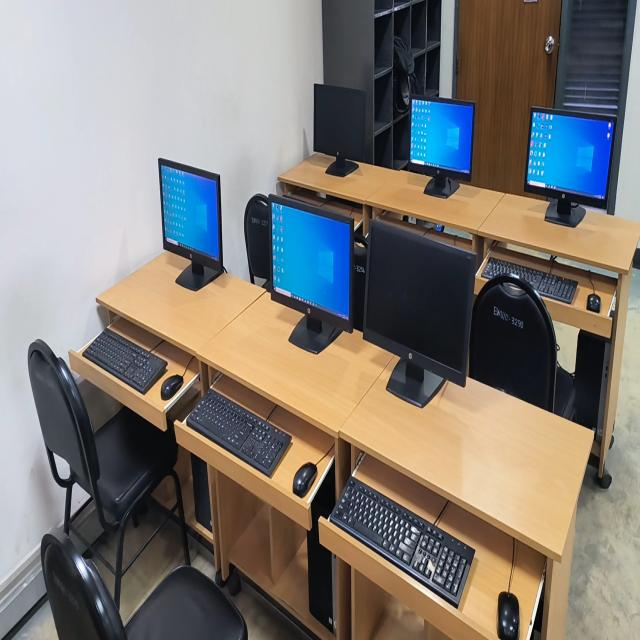Chair: (28, 340, 190, 606), (41, 534, 247, 639), (469, 273, 557, 411), (245, 194, 270, 287), (353, 241, 367, 331)
Cpu: (307, 460, 335, 632), (573, 331, 610, 440), (191, 455, 212, 532)
Keyboard: (329, 478, 475, 608), (185, 389, 291, 476), (83, 327, 167, 394), (483, 258, 577, 303)
Monitor: (362, 220, 474, 407), (268, 194, 354, 354), (524, 107, 615, 226), (159, 159, 224, 290), (408, 95, 474, 198), (313, 84, 366, 176)
Mouse: (497, 591, 519, 639), (292, 463, 317, 498), (161, 375, 183, 399), (586, 293, 601, 313)
